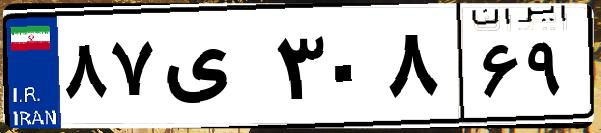0: (330, 28, 385, 110)
3: (270, 28, 330, 110)
6: (475, 38, 525, 113)
7: (110, 28, 158, 98)
8: (385, 28, 445, 110), (57, 26, 110, 100)
9: (525, 38, 570, 115)
ی: (158, 20, 270, 120)
